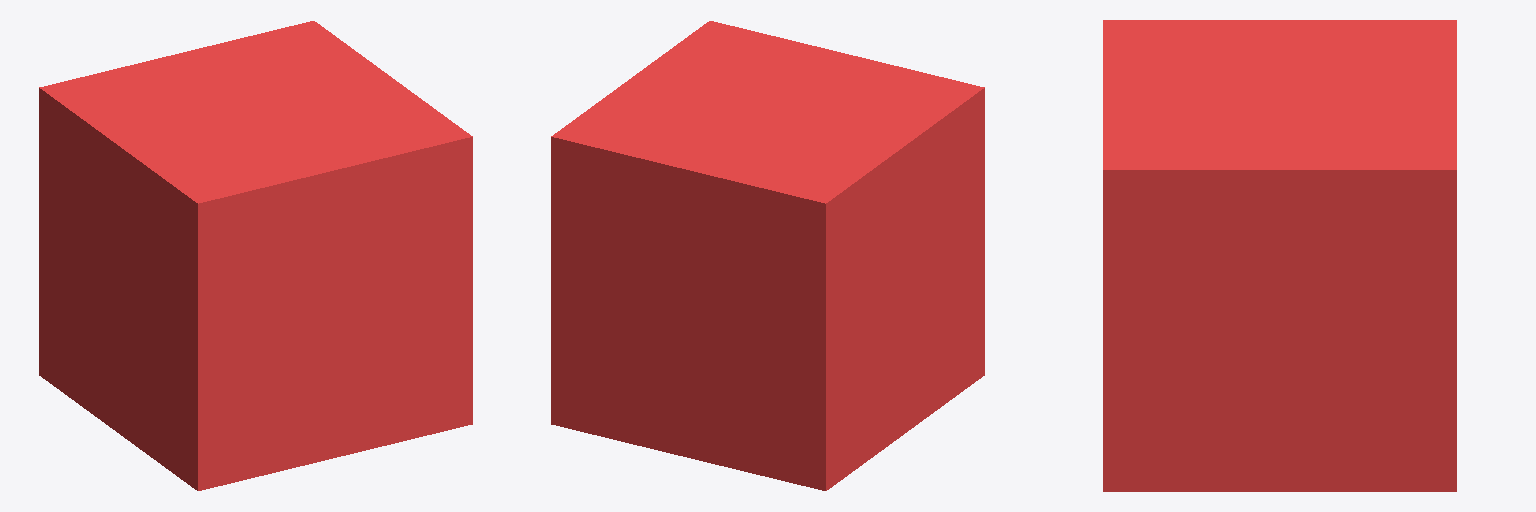
robot.urdf — box.urdf:
<?xml version="1.0" ?>
<robot name="box.urdf">
  <link name="baseLink">
    <contact>
      <lateral_friction value="1.0"/>
      <rolling_friction value="0.0001"/>
      <inertia_scaling value="3.0"/>
    </contact>
    <inertial>
      <origin rpy="0 0 0" xyz="0 0 0"/>
       <mass value="0.2"/>
       <inertia ixx="1" ixy="0" ixz="0" iyy="1" iyz="0" izz="1"/>
    </inertial>
    <visual>
      <origin rpy="0 0 0" xyz="0 0 0"/>
      <geometry>
        <box size="0.05 0.05 0.05"/>
      </geometry>
      <material name="color">
        <color rgba="1.0 0.34 0.34 1.0"/>
      </material>
    </visual>
    <collision>
      <origin rpy="0 0 0" xyz="0 0 0"/>
      <geometry>
	 	    <box size="0.05 0.05 0.05"/>
      </geometry>
    </collision>
  </link>
</robot>

--- What the picture shows (computed from the rendered views, not written in the file) ---
The picture shows the robot from 3 angles, left to right: view 1: azimuth 30°, elevation 25°; view 2: azimuth 150°, elevation 25°; view 3: azimuth 270°, elevation 25°; orthographic projection.
Robot: box.urdf — 1 links, 0 joints (none); root link baseLink; default pose: every joint at zero.
Links seen in each view (by area): view 1: baseLink; view 2: baseLink; view 3: baseLink.
Boxes of the visible links, x1,y1,x2,y2 form: baseLink: (39,21,472,490); baseLink: (551,21,984,490); baseLink: (1103,20,1456,491).
Bounding box of the posed robot: 0.05 × 0.05 × 0.05 m (x, y, z).
Geometry: primitives only (box / cylinder / sphere), no mesh files.
